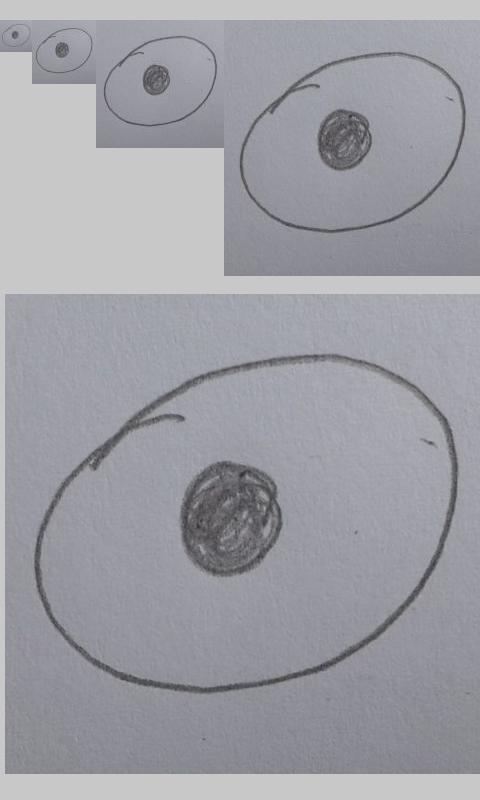radio_button: (31, 347, 462, 695), (237, 49, 468, 235), (102, 34, 219, 128), (35, 26, 93, 74), (1, 22, 31, 48)
